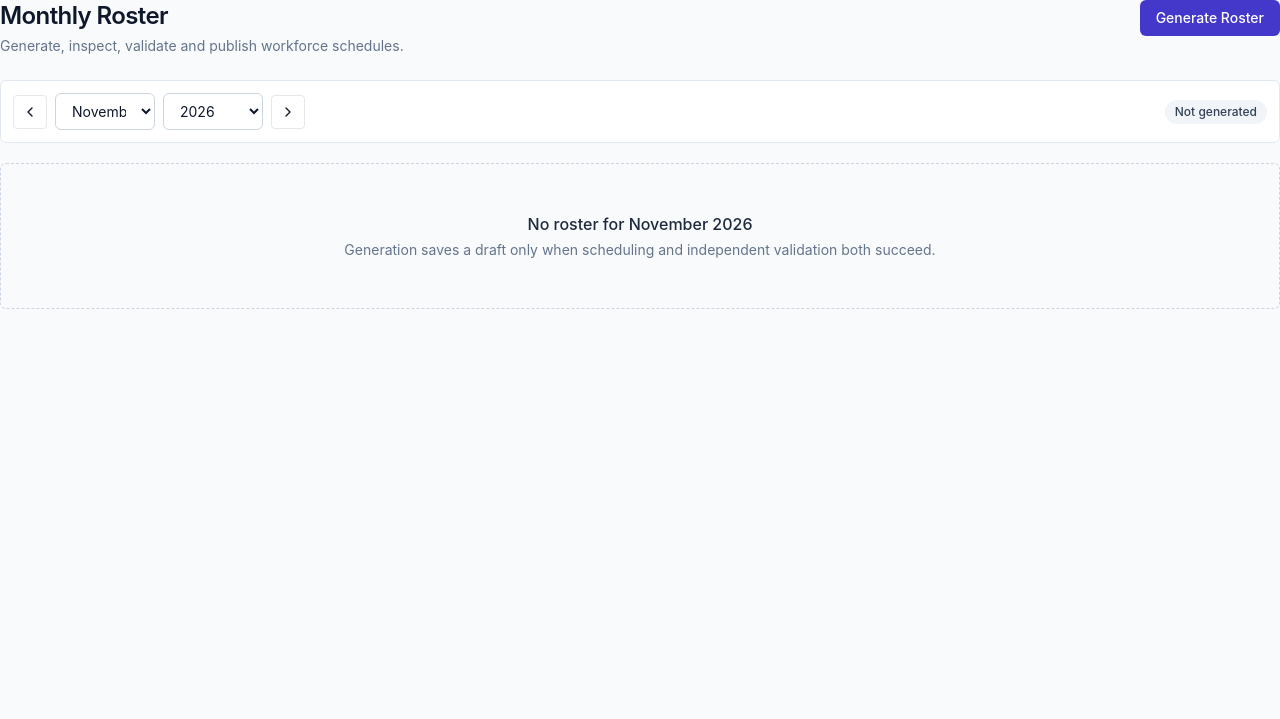
Scenario: Task 9 monthly roster › refreshes the saved roster, selected view and coverage after successful regeneration
Select "December" in the dropdown named "Roster month": (105, 112) [55,93,155,130]
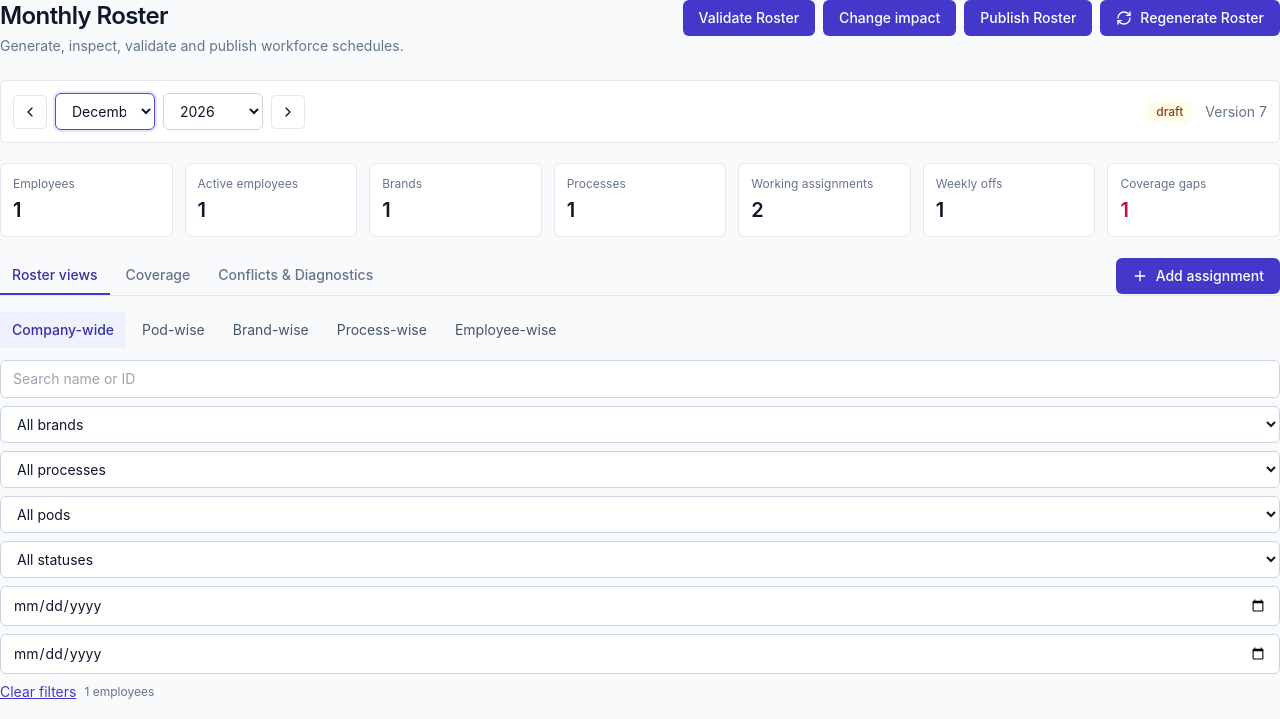
Click the button "Regenerate Roster": (1190, 18) [1100,0,1279,36]
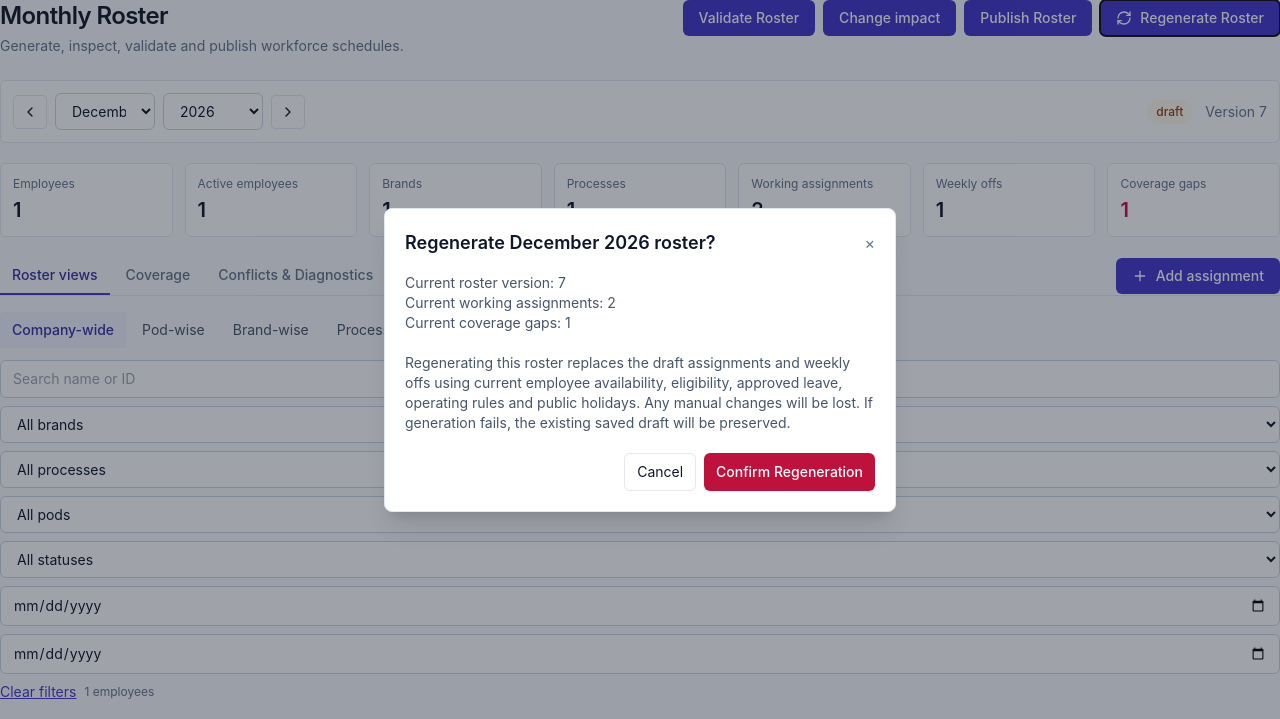
Click the button "Confirm Regeneration": (790, 472) [704,453,875,491]
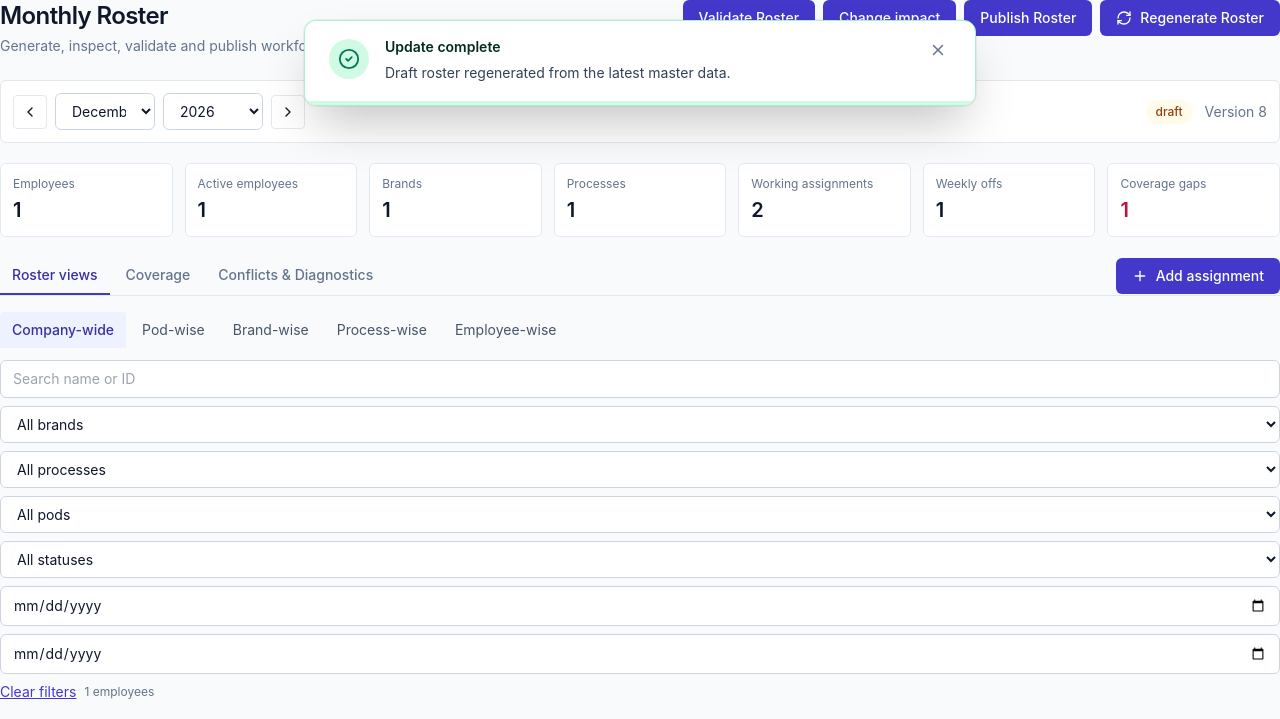
expect the text "Draft roster regenerated from the latest master data." is shown: met, box [385,64,731,81]
expect the text "Version 8" is shown: met, box [1205,102,1267,122]
